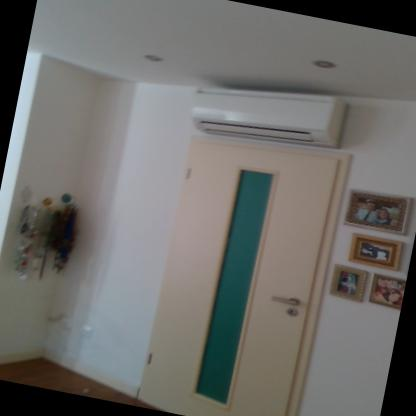closed: (132, 132, 351, 415)
